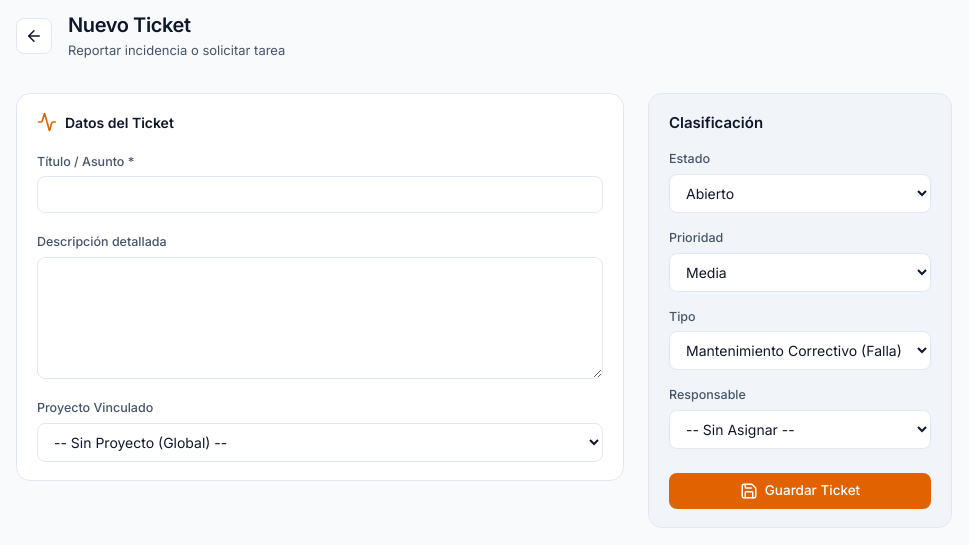
Scenario: TicketDetalle — responsable › al elegir un proyecto en un ticket nuevo, el responsable pasa a ser el líder del proyecto
Select "Proyecto Uno (Uno SA)" in the dropdown below "Proyecto Vinculado". click: (320,442)
box: [37,423,603,462]
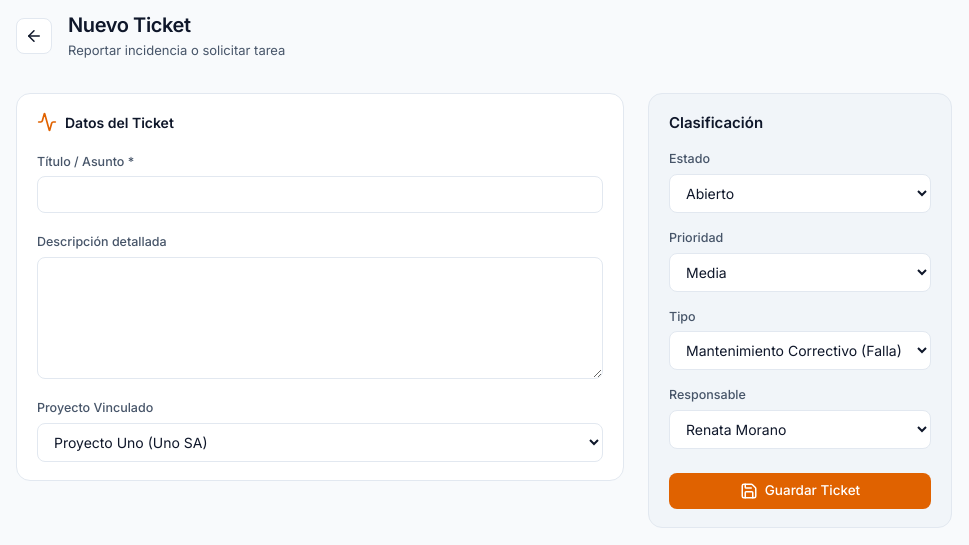
Expected: the dropdown below "Responsable" shows "Renata Morano", [669,410,931,449]
